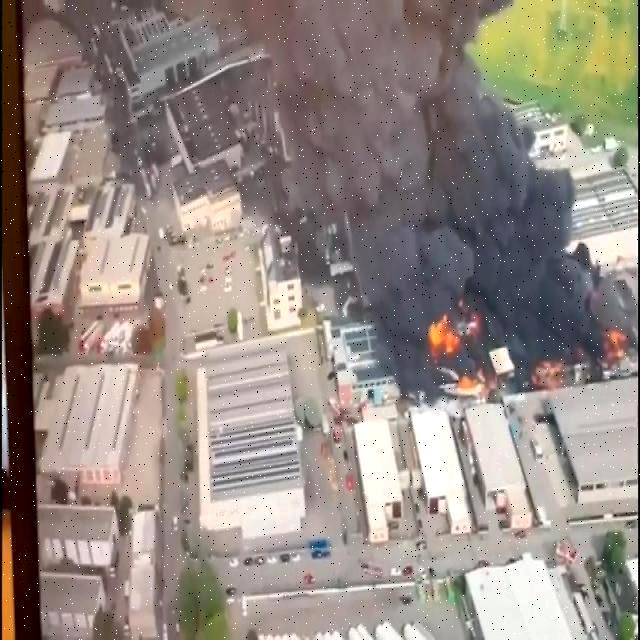Smoke: (222, 0, 584, 308)
